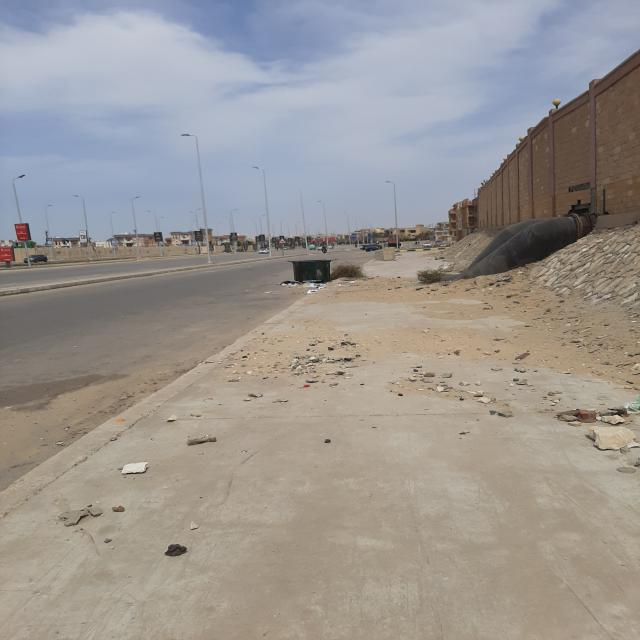Street Light: (181, 134, 213, 263), (12, 174, 32, 270), (252, 166, 273, 257), (72, 194, 93, 260), (385, 180, 400, 250), (316, 200, 330, 250), (132, 196, 142, 259), (44, 204, 54, 259)
